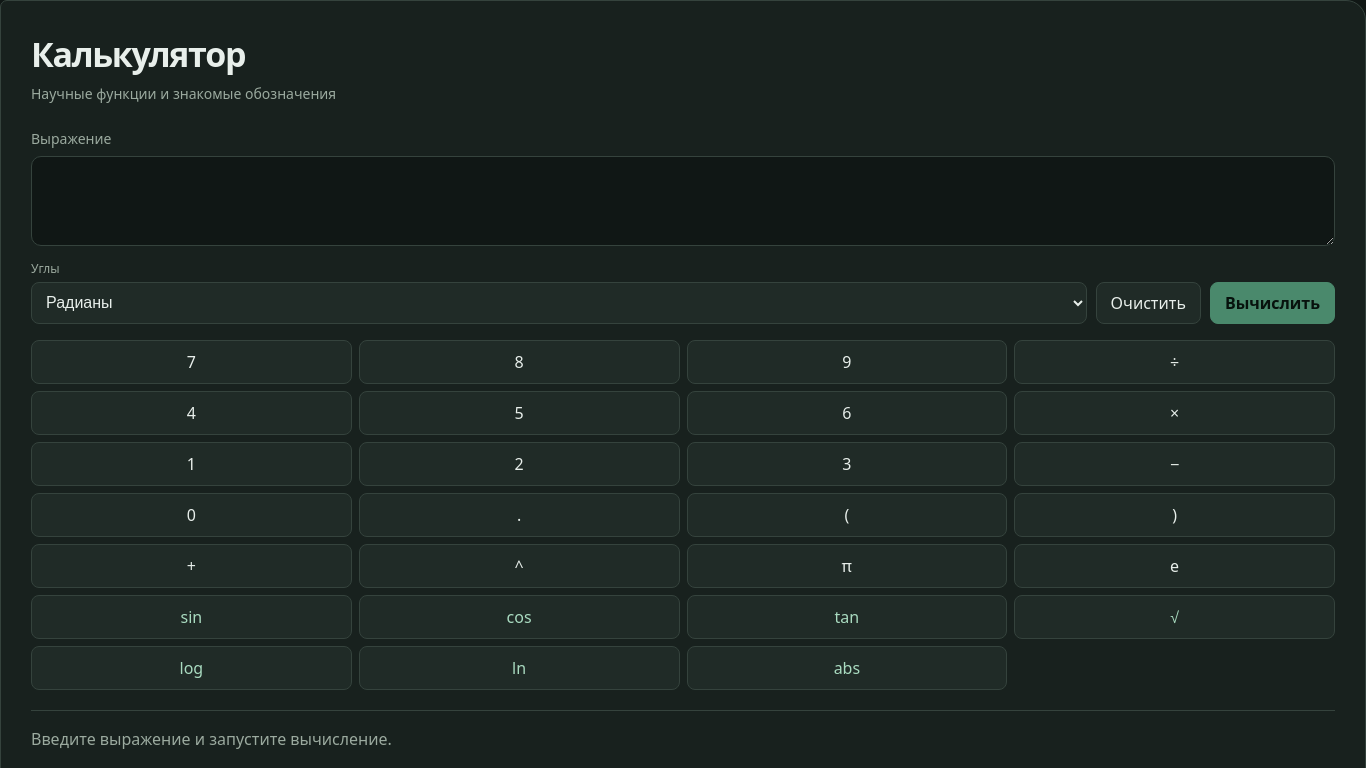
Scenario: CalculatorView › calculates an expression and saves it to local history
The image size is (1366, 768).
Type "2+3" into the text box named "математическое выражение" at [683, 201], box [31,156,1335,246]
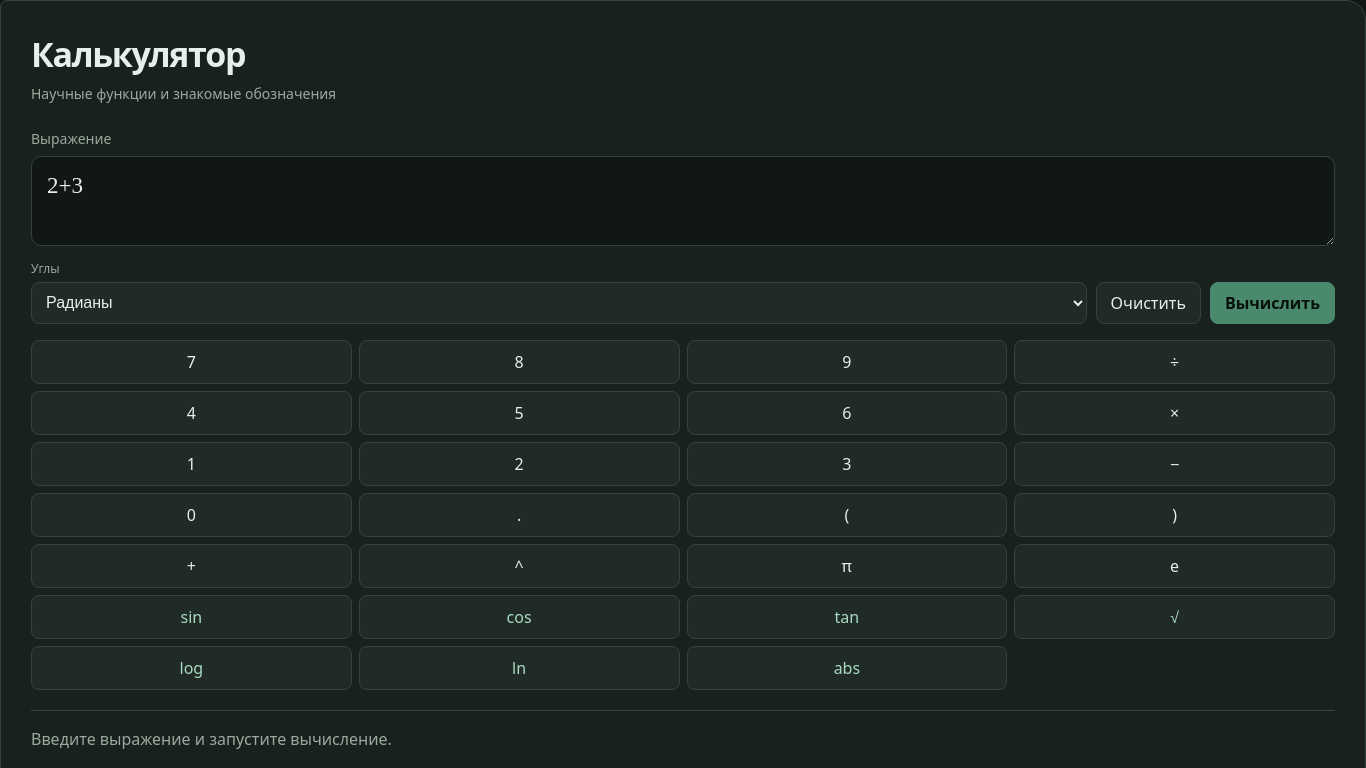
Click the button "Вычислить" at [1272, 303], box [1210,282,1335,324]
(page scrolled)
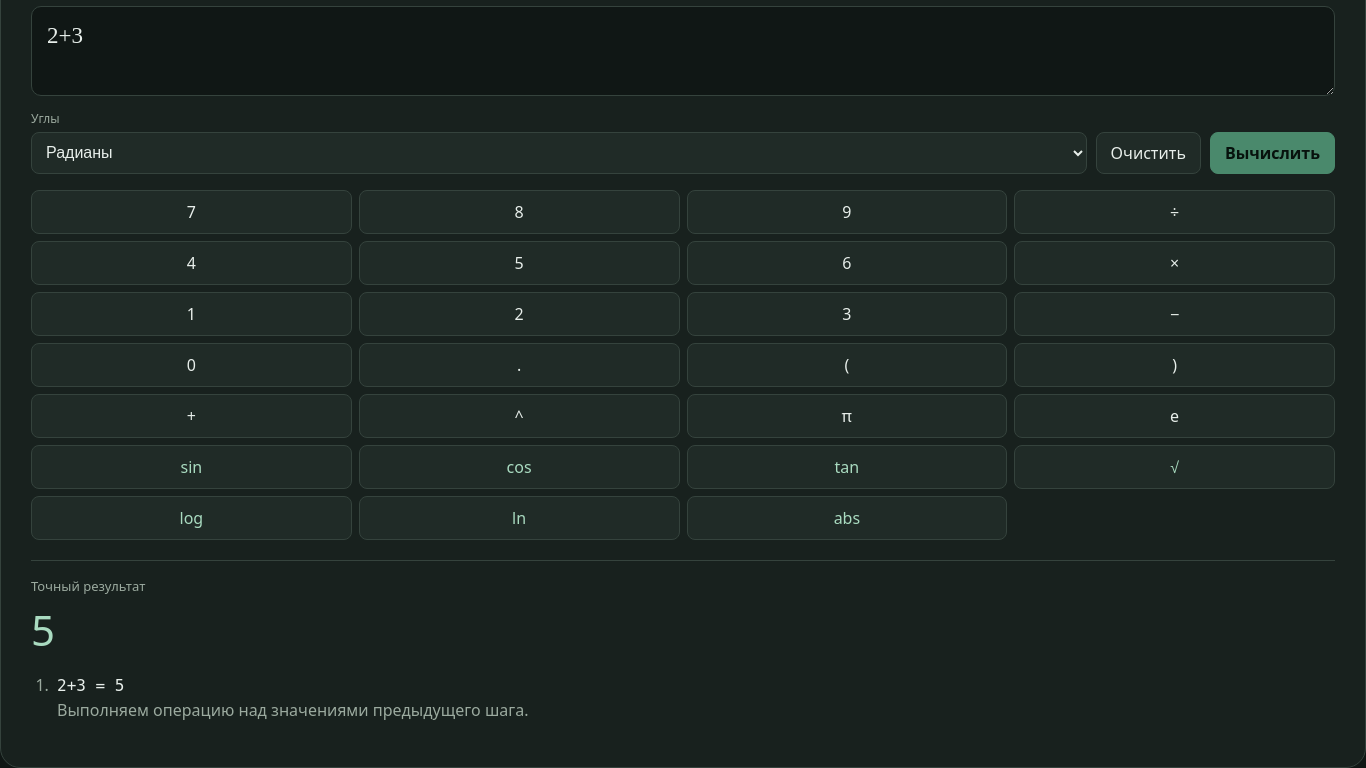
Result: the text "5" is shown at [31,601,55,658]
